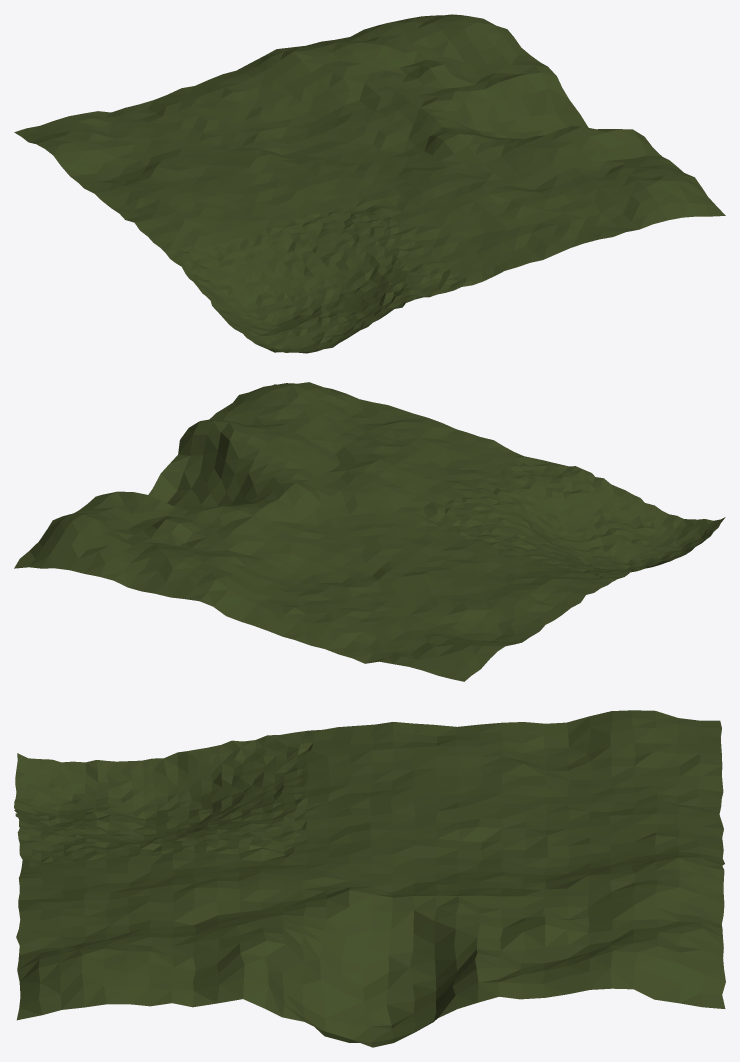
The model's file is terrain.fbx.
3 views of the same model, one above another, from view 1: azimuth 30°, elevation 25°; view 2: azimuth 150°, elevation 25°; view 3: azimuth 270°, elevation 25° (orthographic). The views are drawn at different scales.
Visible parts, largest first — view 1: Plane; view 2: Plane; view 3: Plane.
Part boxes in pixels (left/top/right/bottom): Plane: left=14, top=14, right=725, bottom=353; Plane: left=14, top=382, right=725, bottom=681; Plane: left=14, top=710, right=725, bottom=1047.
Bounding box in the file's own units: 162385 × 28719 × 162273.
